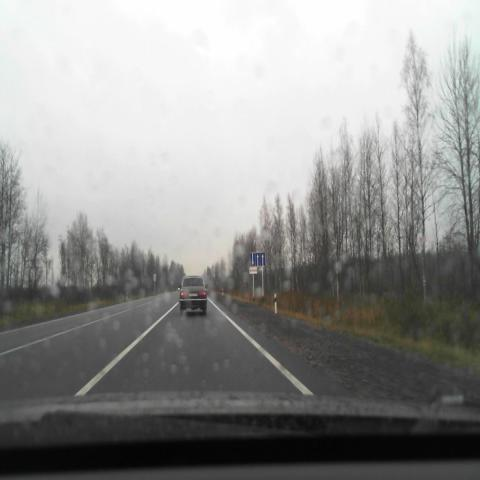5_15_7: (250, 252, 265, 267)
